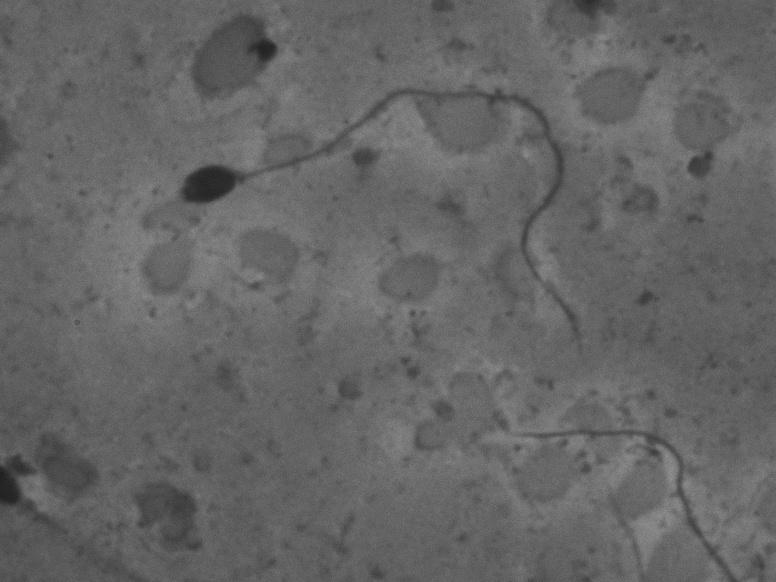Abnormal: (153, 76, 618, 362)
